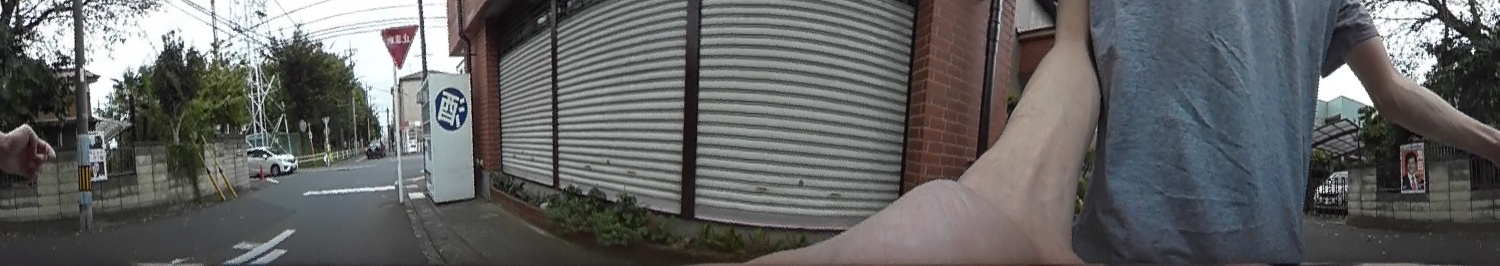difficult_person: (321, 139, 334, 166)
